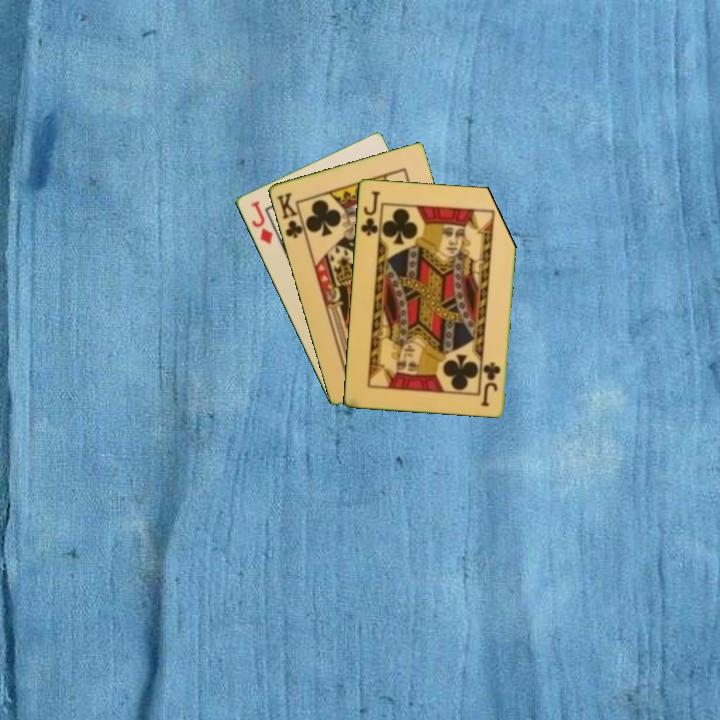Jc: (357, 187, 382, 238), (478, 358, 503, 409)
Jd: (247, 197, 275, 247)
Kc: (273, 189, 308, 241)
